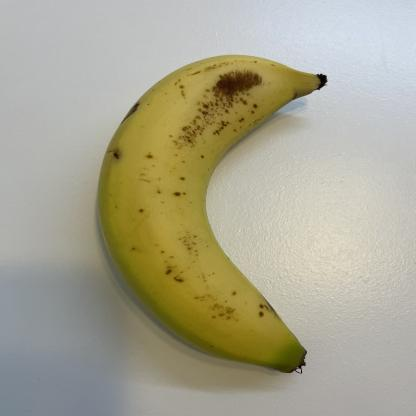banana: (96, 54, 330, 374)
